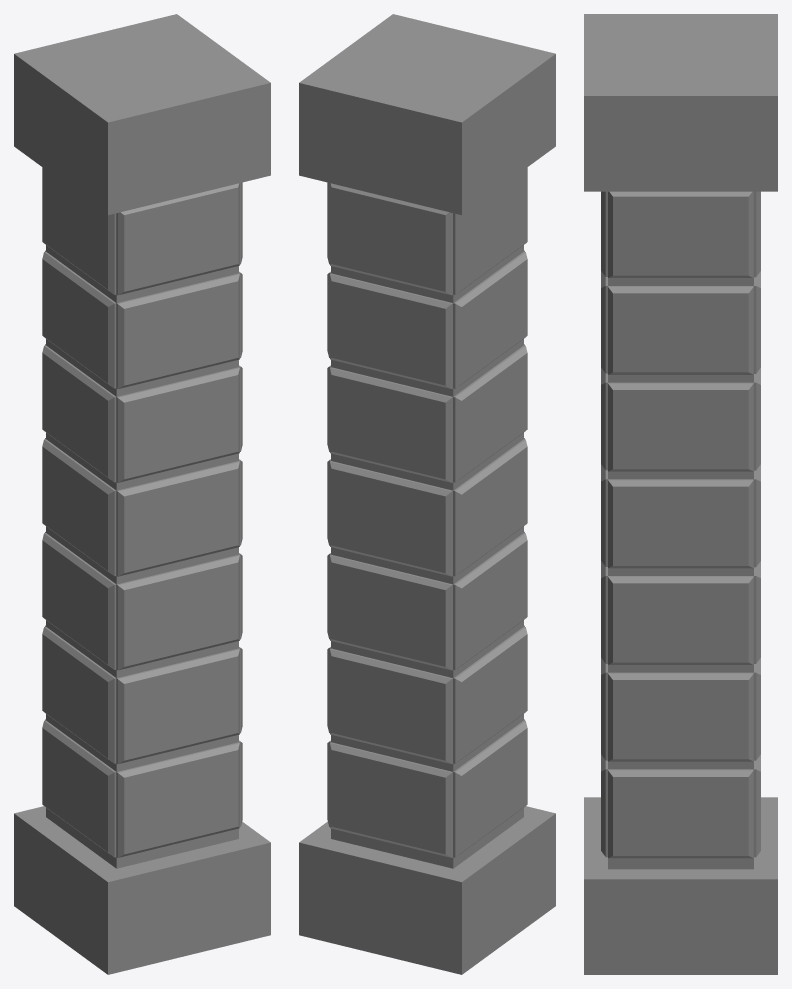
File: Assets.fbx_Column.fbx
The picture shows the model from 3 angles, left to right: view 1: azimuth 30°, elevation 25°; view 2: azimuth 150°, elevation 25°; view 3: azimuth 270°, elevation 25°; orthographic projection. The views are drawn at different scales.
Parts seen in each view (by area): view 1: Column; view 2: Column; view 3: Column.
Boxes of the visible parts, x1,y1,x2,y2 form: Column: [14, 14, 270, 974]; Column: [299, 14, 555, 974]; Column: [584, 14, 777, 974].
Size of the model in its own units: 40 by 200 by 40.
